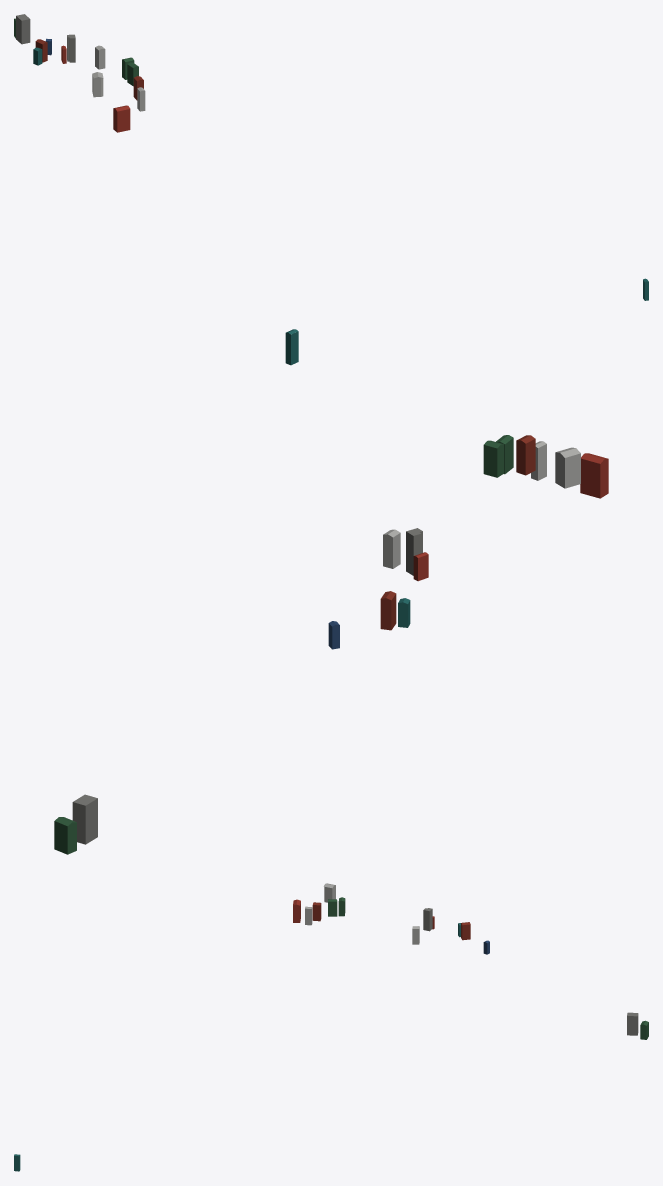
The model's file is near-15-27354-14859.d53e4a65.glb.
The picture shows the model from 3 angles, top to bottom: view 1: azimuth 30°, elevation 25°; view 2: azimuth 150°, elevation 25°; view 3: azimuth 270°, elevation 25°; orthographic projection. The views are drawn at different scales.
Bounding box in the file's own units: 364 × 165 × 665.
